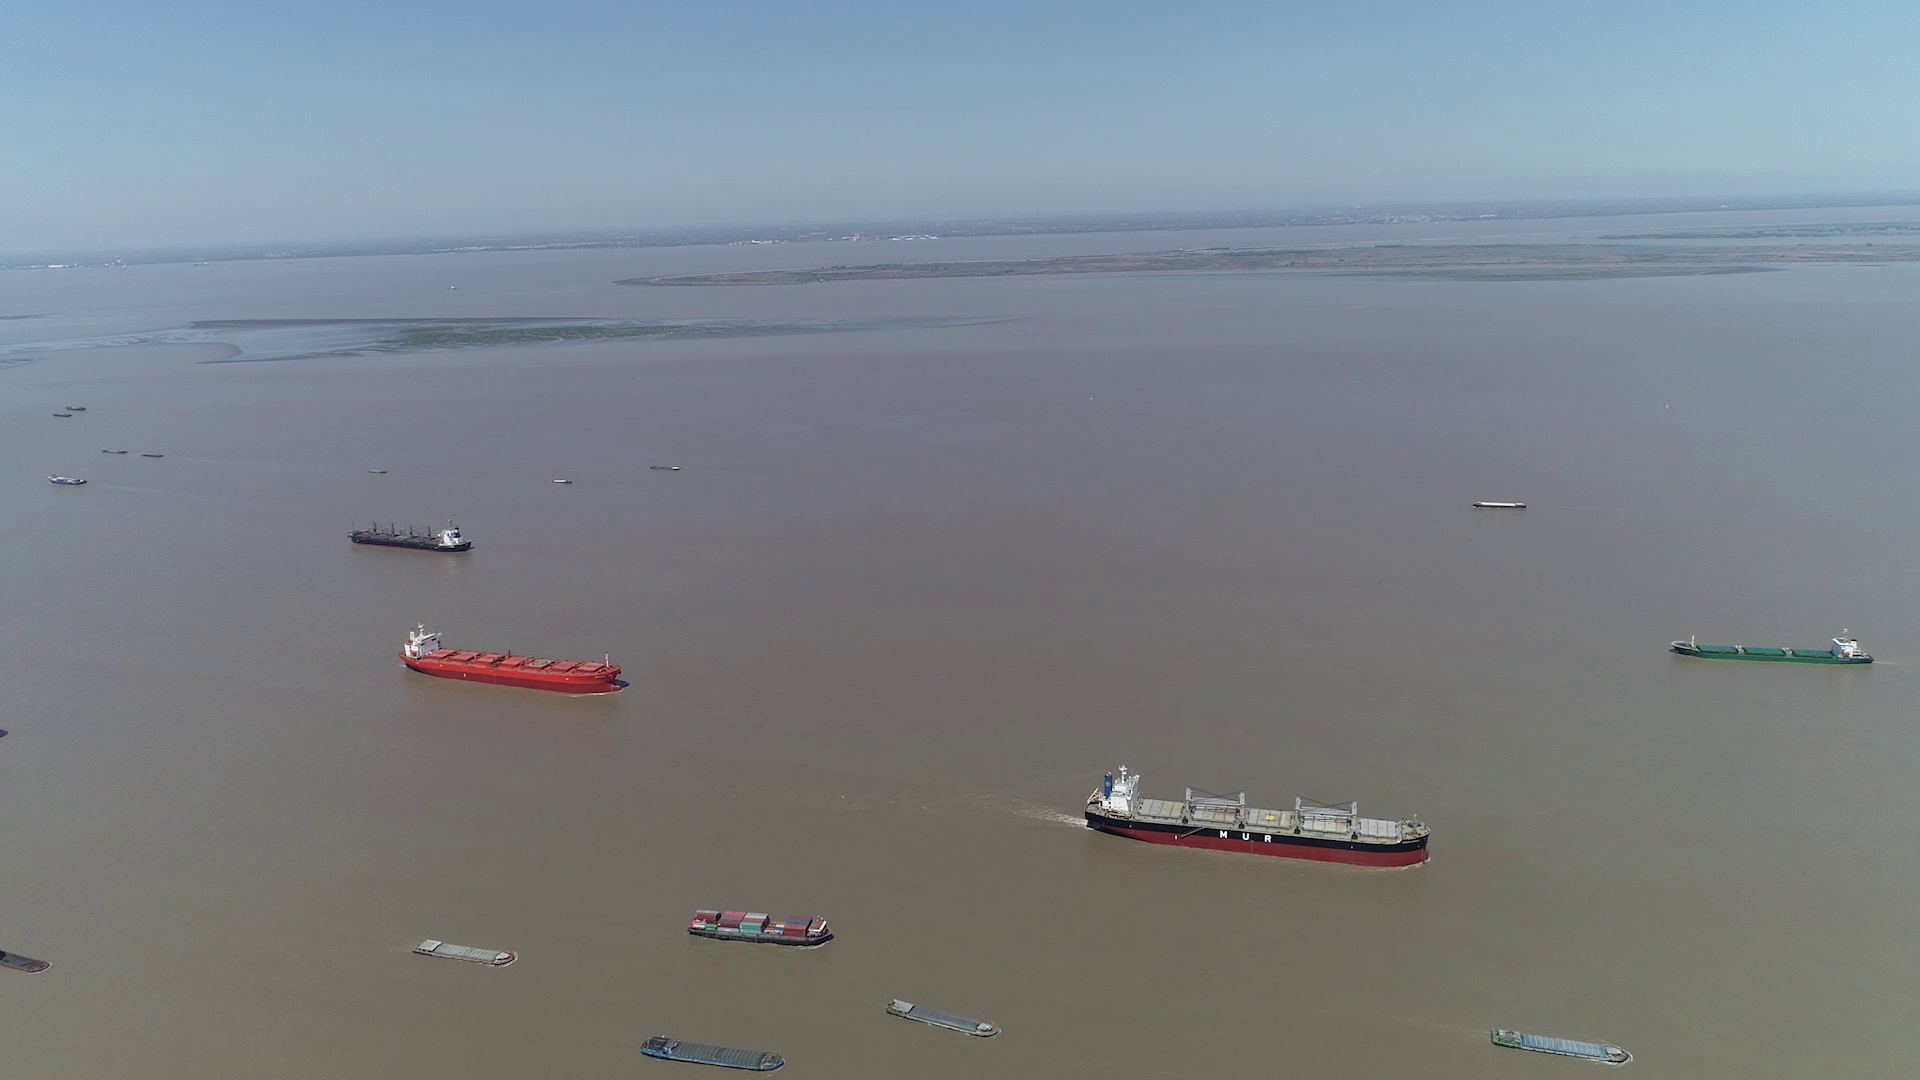ship: (1087, 767, 1433, 866), (400, 624, 618, 694), (1669, 632, 1870, 666), (687, 906, 836, 945), (1490, 1027, 1633, 1065), (642, 1036, 785, 1073), (887, 998, 998, 1039), (345, 520, 473, 553), (411, 938, 516, 965), (0, 947, 47, 975), (1472, 500, 1524, 510), (49, 473, 88, 487)
